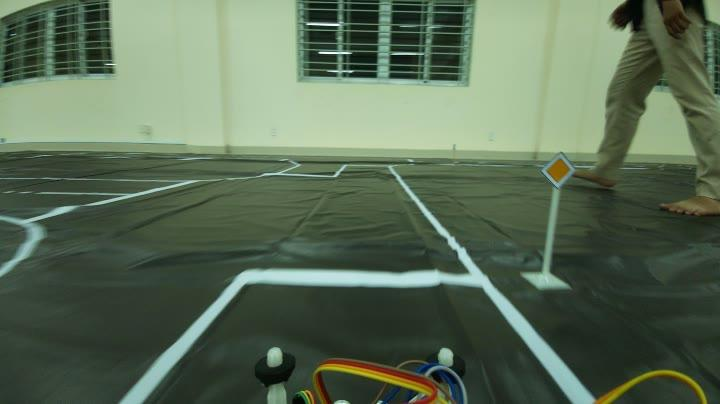priority: (536, 150, 578, 190)
